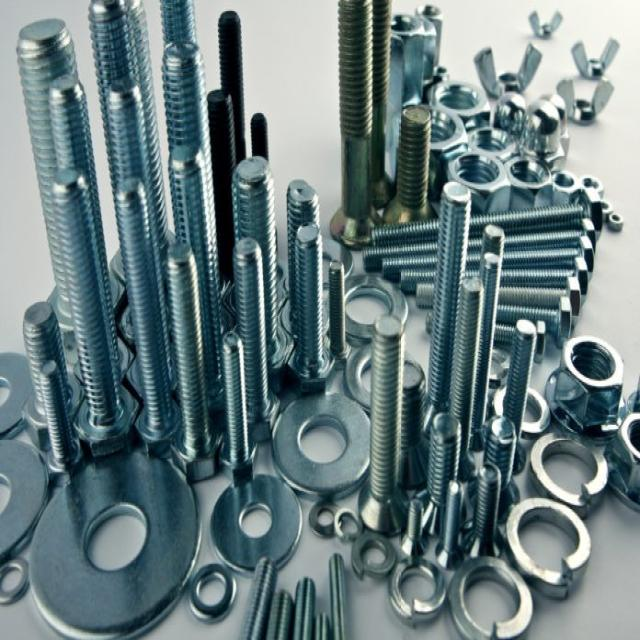Logam: (15, 14, 640, 625)
